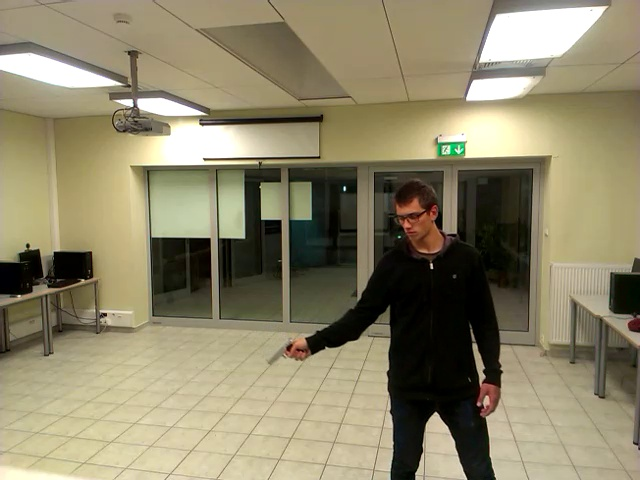gun: (257, 326, 319, 378)
